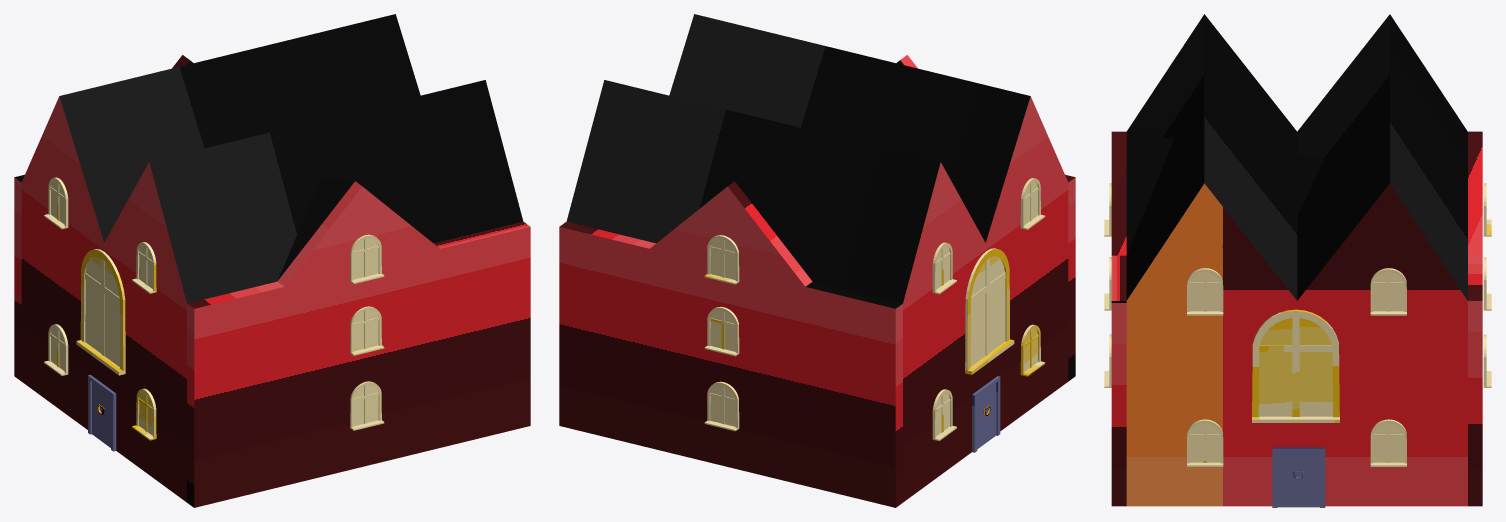
The model's file is school.fbx.
The picture shows the model from 3 angles, left to right: view 1: azimuth 30°, elevation 25°; view 2: azimuth 150°, elevation 25°; view 3: azimuth 270°, elevation 25°; orthographic projection. The views are drawn at different scales.
Parts seen in each view (by area): view 1: Sphere; view 2: Sphere; view 3: Sphere.
Part boxes in pixels (left/top/right/bottom): Sphere: left=14, top=14, right=530, bottom=507; Sphere: left=559, top=14, right=1075, bottom=507; Sphere: left=1104, top=14, right=1491, bottom=507.
Size of the model in its own units: 2250 by 1922 by 2089.
